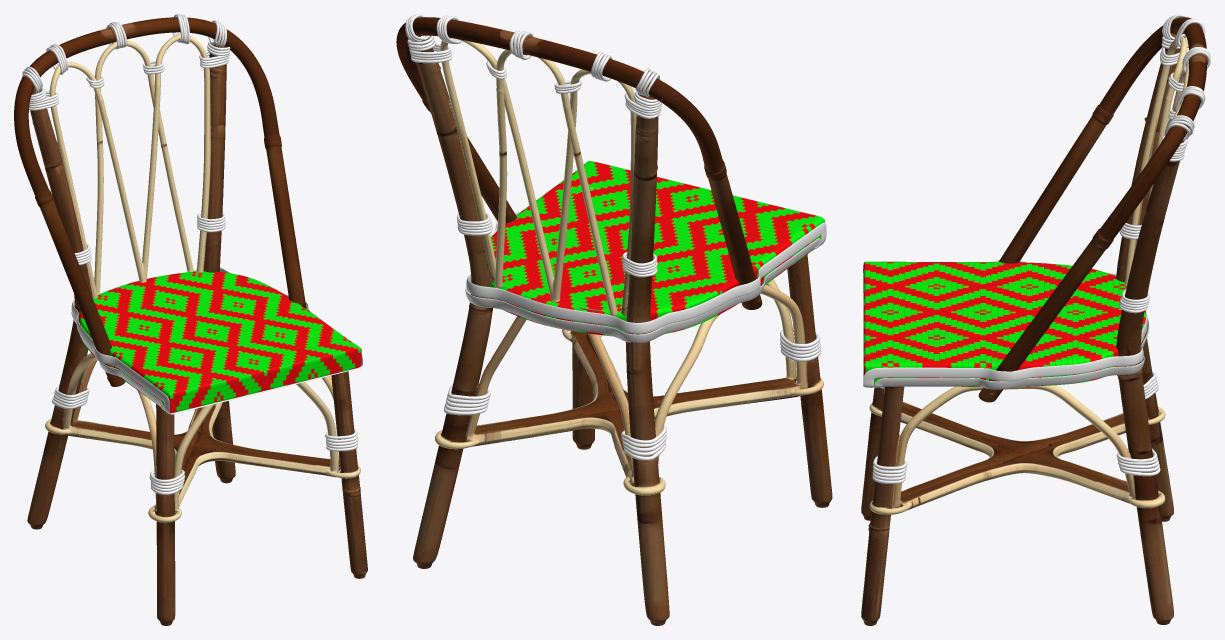
File: harpe-chevron.glb
3 renders of one model, left to right at view 1: azimuth 30°, elevation 25°; view 2: azimuth 150°, elevation 25°; view 3: azimuth 270°, elevation 25°, orthographic. The views are drawn at different scales.
Parts seen in each view (by area): view 1: mesh_structure, mesh_tressage, mesh_laniere; view 2: mesh_structure, mesh_tressage, mesh_laniere; view 3: mesh_structure, mesh_tressage, mesh_laniere.
Part boxes in pixels (x1,y1,x2,y2): mesh_structure: [14, 17, 367, 625]; mesh_tressage: [79, 271, 361, 413]; mesh_laniere: [22, 14, 362, 494]; mesh_structure: [396, 17, 832, 625]; mesh_tressage: [490, 161, 824, 336]; mesh_laniere: [405, 14, 826, 460]; mesh_structure: [861, 17, 1207, 625]; mesh_tressage: [863, 261, 1146, 386]; mesh_laniere: [863, 14, 1210, 483].
Bounding box in the file's own units: 0.5059 × 0.9058 × 0.549.
Materials: 3 (2 with a texture image).
